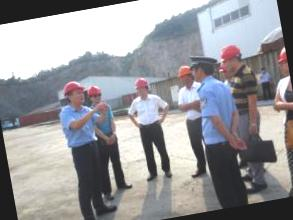no_helmet: (184, 47, 222, 87)
